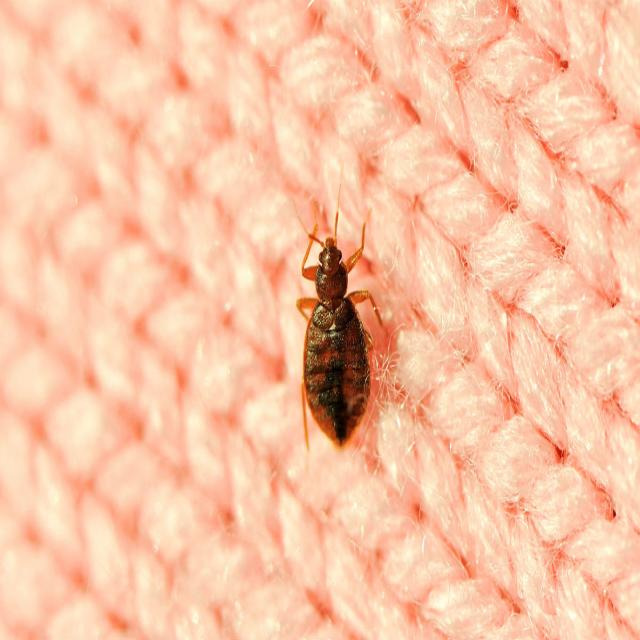Mites: (294, 159, 392, 459)
